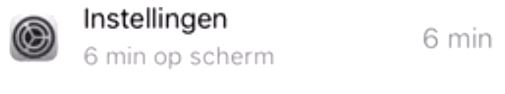name: (77, 3, 235, 37)
time: (76, 44, 152, 70)
